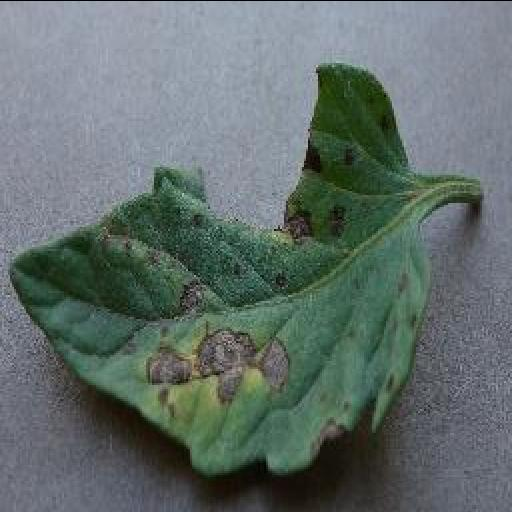Early Blight: (8, 61, 422, 470)
